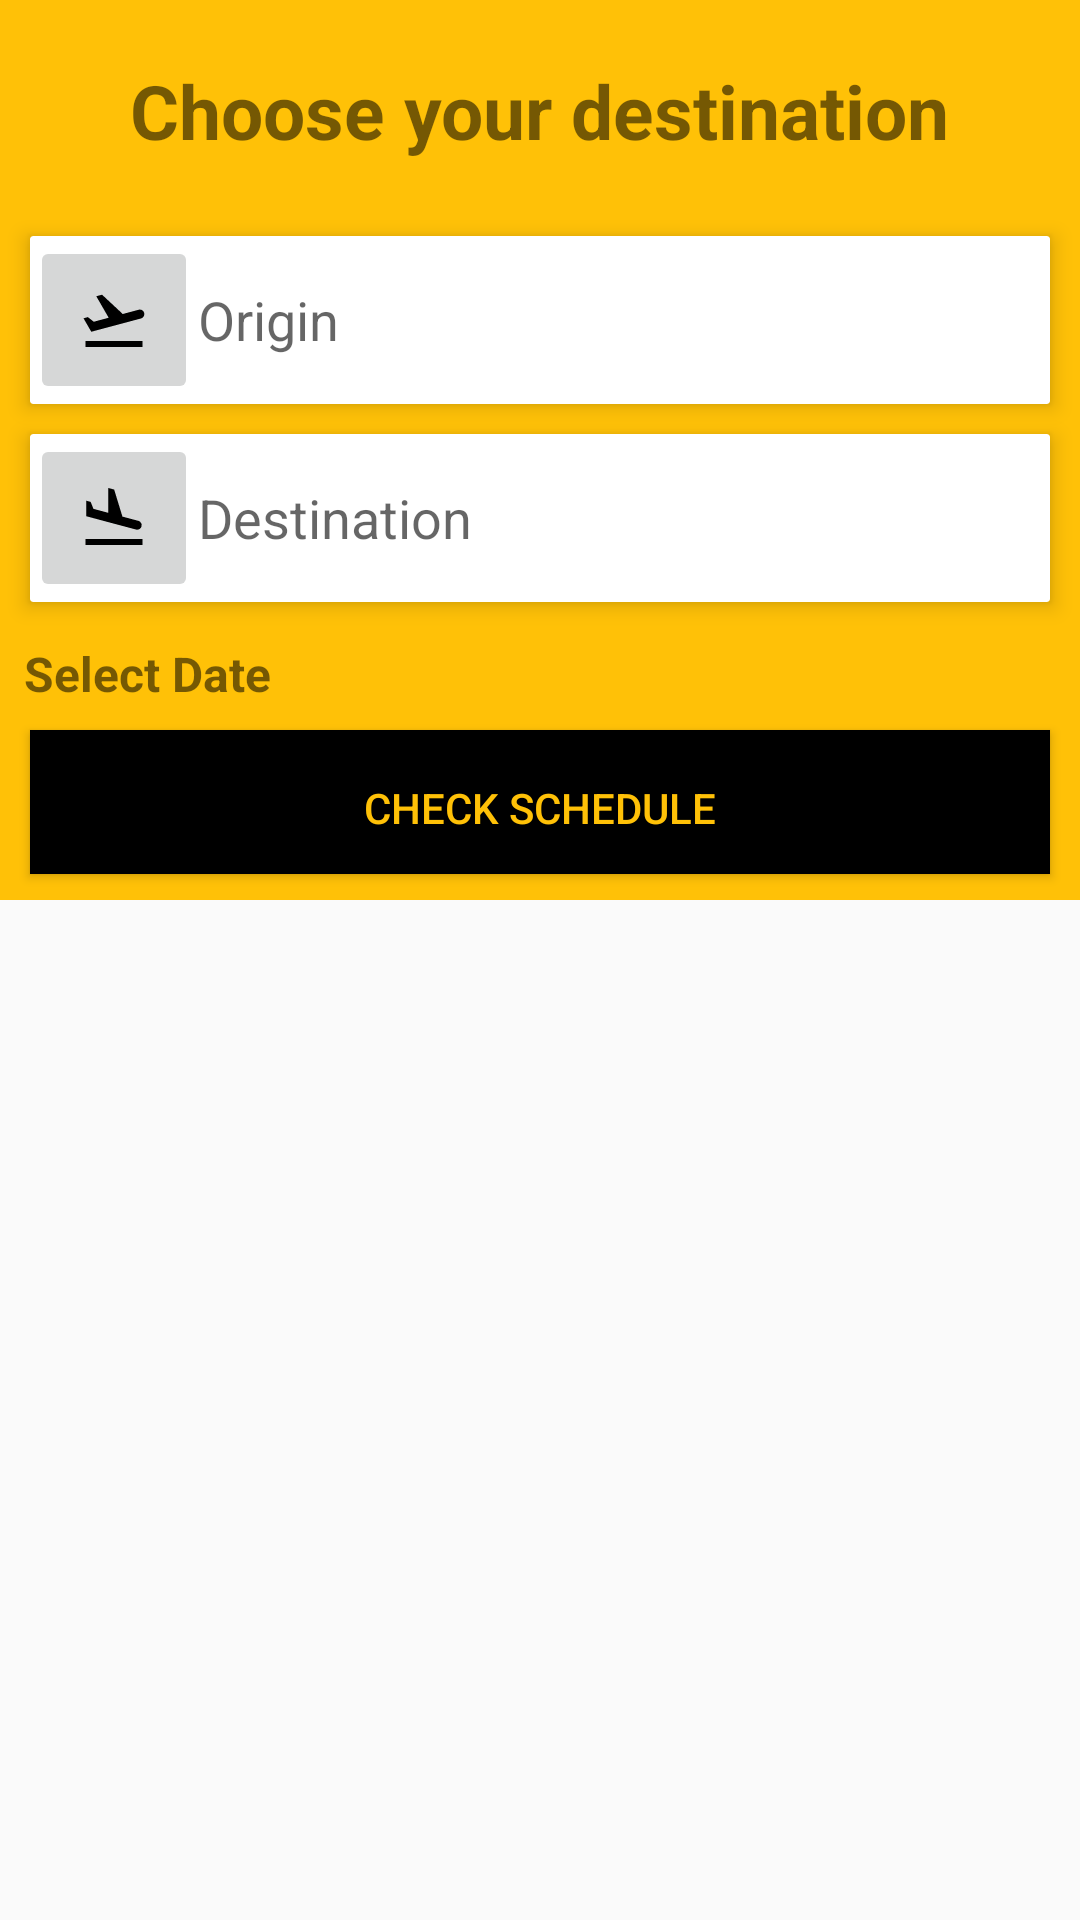

Icon click points for this 1080 x 1920 phone screenshot, format (x=x, y=y):
flight land: (x=114, y=518)
flight takeoff: (x=114, y=320)
